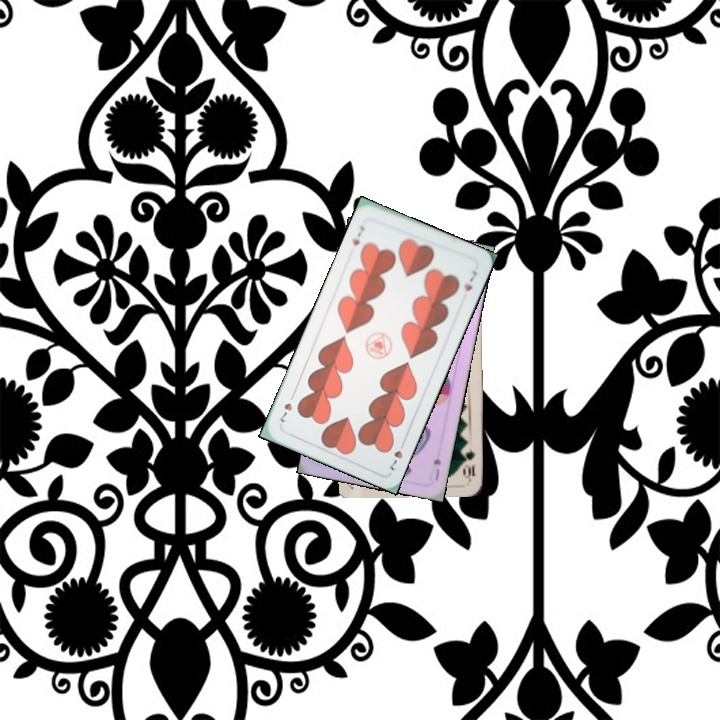G10: (460, 444, 478, 482)
H7: (386, 436, 408, 473), (348, 222, 367, 248)
SU: (430, 454, 444, 483)
